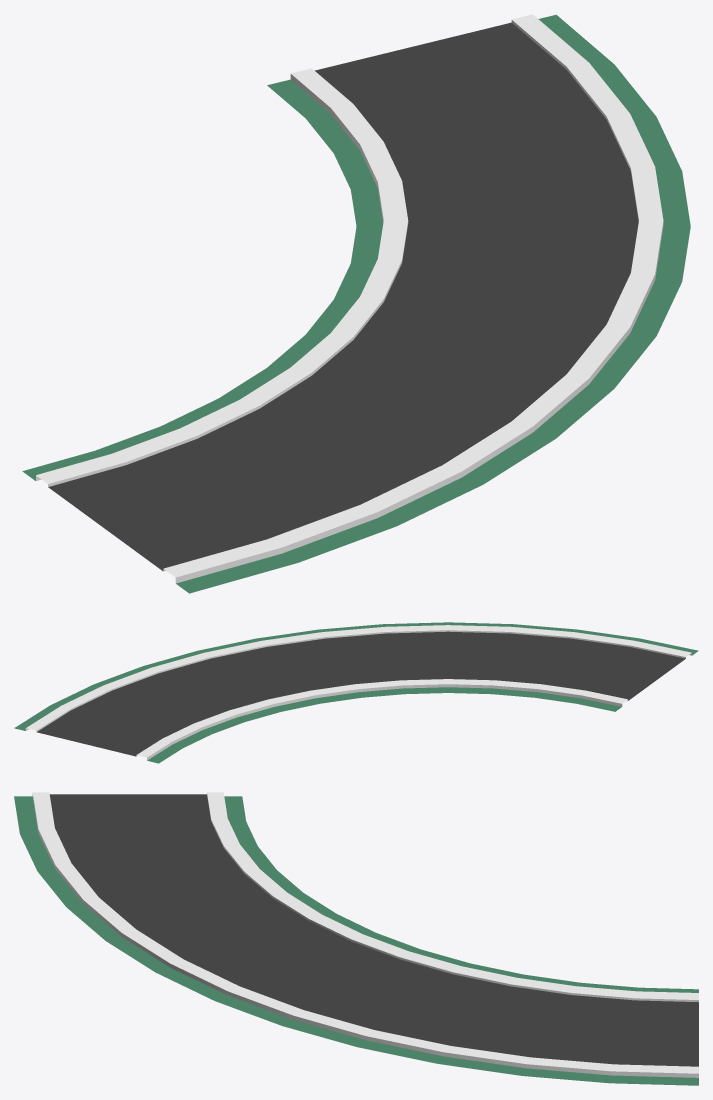
File: roadCornerLarger.obj
3 renders of one model, top to bottom at view 1: azimuth 30°, elevation 25°; view 2: azimuth 150°, elevation 25°; view 3: azimuth 270°, elevation 25°, orthographic. The views are drawn at different scales.
Parts seen in each view (by area): view 1: roadCornerLarger; view 2: roadCornerLarger; view 3: roadCornerLarger.
Part boxes in pixels (box(x1,y1,x2,y2)): roadCornerLarger: box(22, 14, 690, 593); roadCornerLarger: box(14, 622, 698, 763); roadCornerLarger: box(14, 792, 698, 1085).
Size of the model in its own units: 3 by 0.02 by 3.
